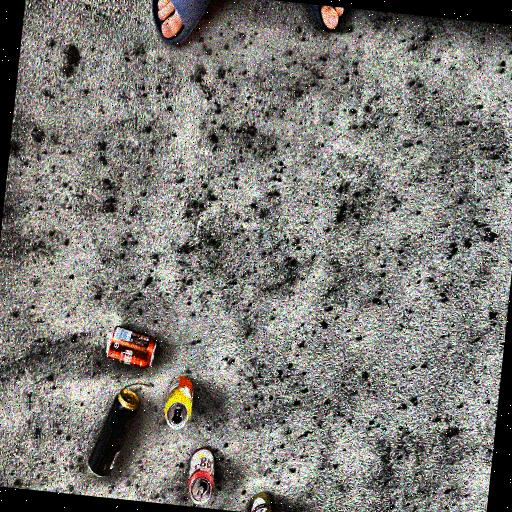A_LeCoq: (247, 491, 283, 512)
coop_larger: (94, 318, 164, 372)
karhu: (76, 380, 146, 490)
koff: (180, 436, 222, 509)
